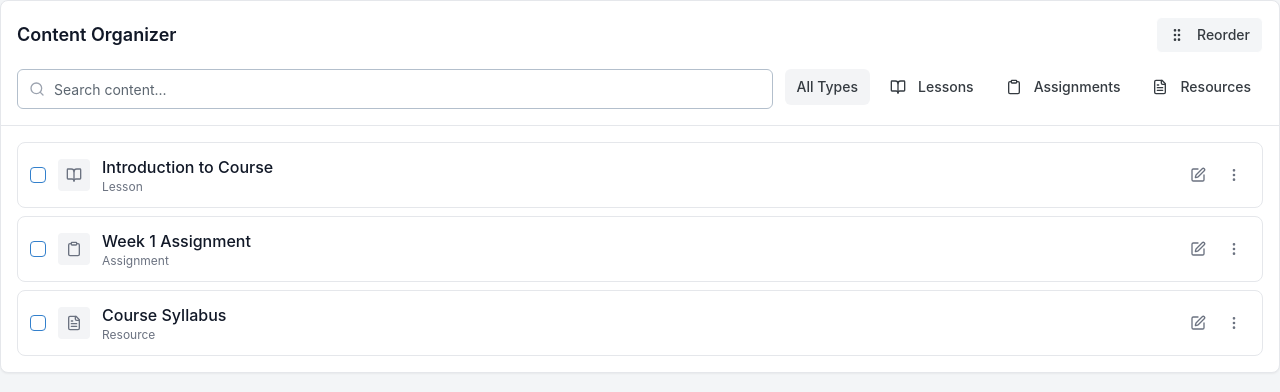
Test case: ContentOrganizer › shows empty state when no items match filters
This screenshot has width=1280, height=392.
Type a search query that won't match any items
In the field with placeholder "Search content...": {"x": 395, "y": 89} [17,69,772,109], type "nonexistent"
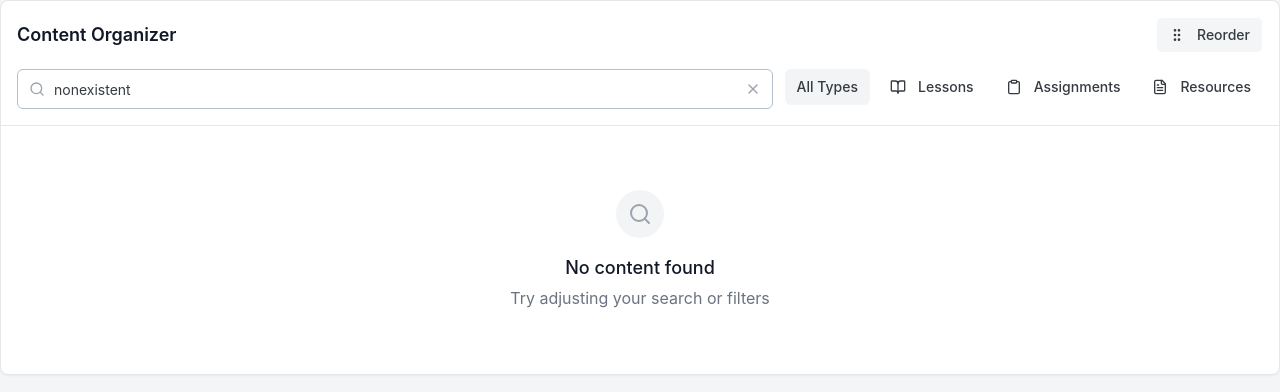
Expected: the heading "No content found" is shown, [565,257,715,278]
Expected: the text "Try adjusting your search or filters" is shown, [510,288,770,308]
